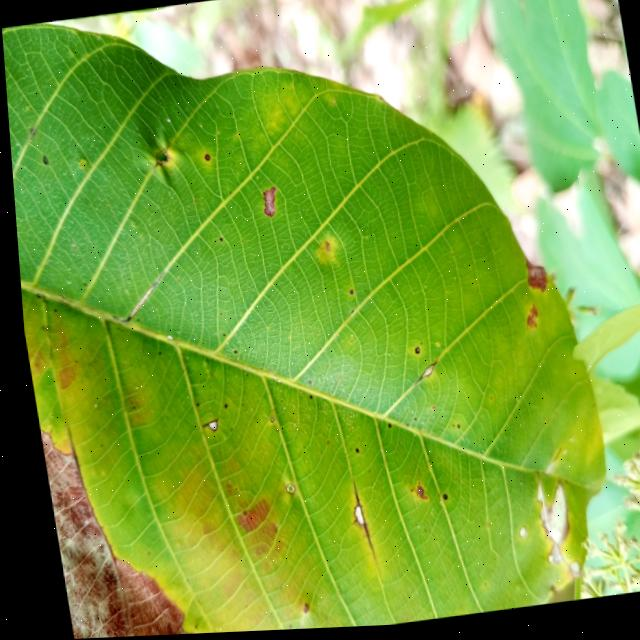Colletotrichum: (276, 482, 288, 496), (409, 349, 414, 356), (347, 449, 352, 455), (434, 496, 439, 502), (216, 404, 221, 410), (262, 418, 267, 423), (344, 291, 348, 296), (380, 425, 384, 430), (227, 351, 232, 355), (301, 381, 305, 385), (303, 397, 306, 401)
Corynespora: (343, 478, 365, 554)
Leaf-Blight: (523, 476, 567, 568)
